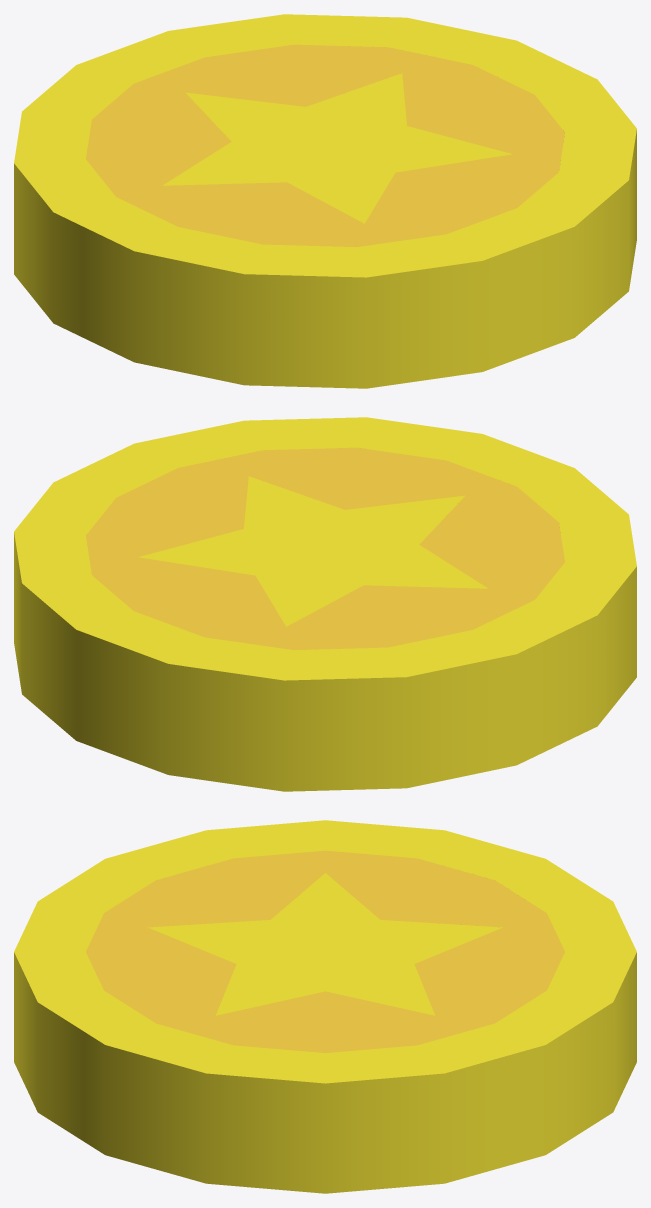
Rendered from Coin.glb.
3 views of the same model, one above another, from view 1: azimuth 30°, elevation 25°; view 2: azimuth 150°, elevation 25°; view 3: azimuth 270°, elevation 25° (orthographic).
Visible parts, largest first — view 1: Coin; view 2: Coin; view 3: Coin.
Part boxes in pixels (box(x1,y1,x2,y2)): Coin: box(14, 14, 636, 388); Coin: box(14, 417, 636, 791); Coin: box(14, 820, 636, 1193).
Size of the model in its own units: 0.08 by 0.0156 by 0.08.
